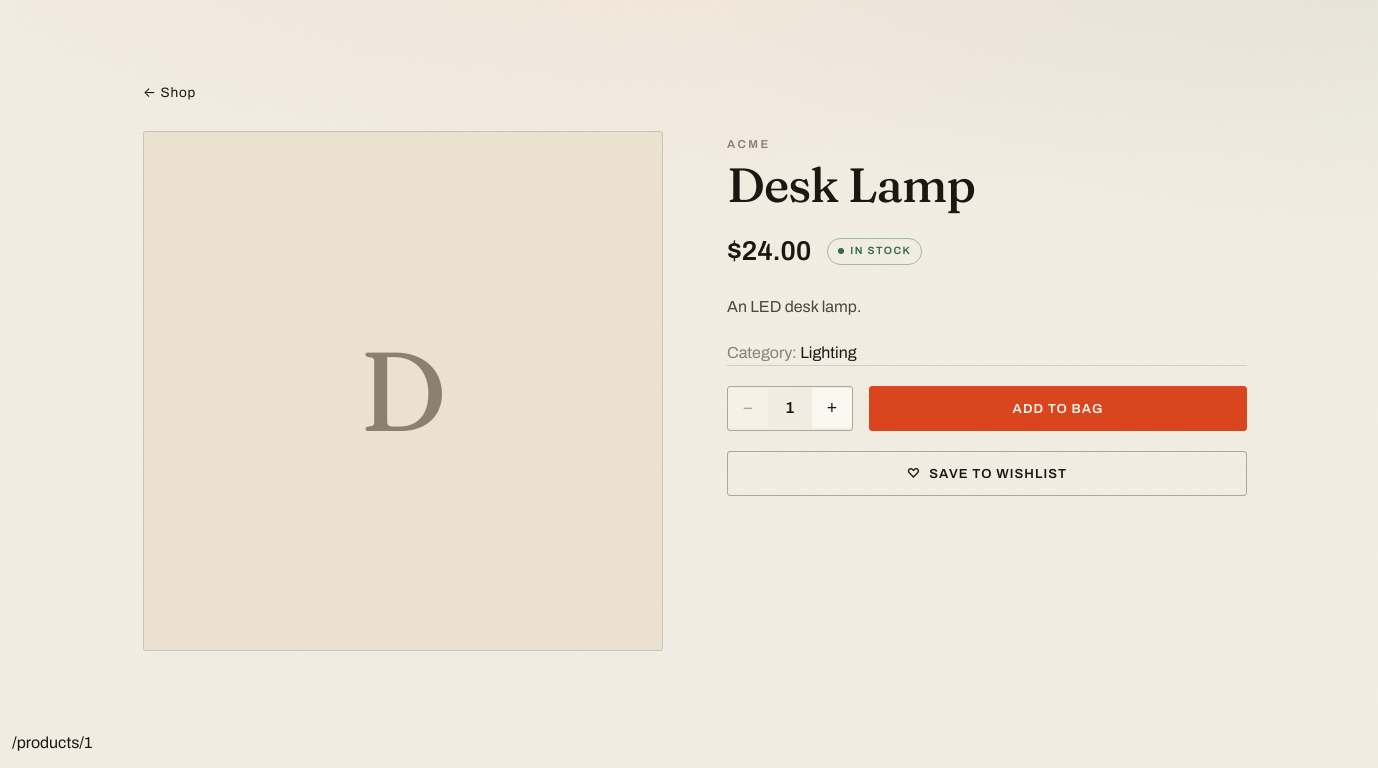
ProductDetailPage › adds the chosen quantity to the bag
Expected: the heading "Desk Lamp" is shown, [727,156,975,214]
Click the button named "Increase quantity": {"x": 832, "y": 408} [812,388,852,428]
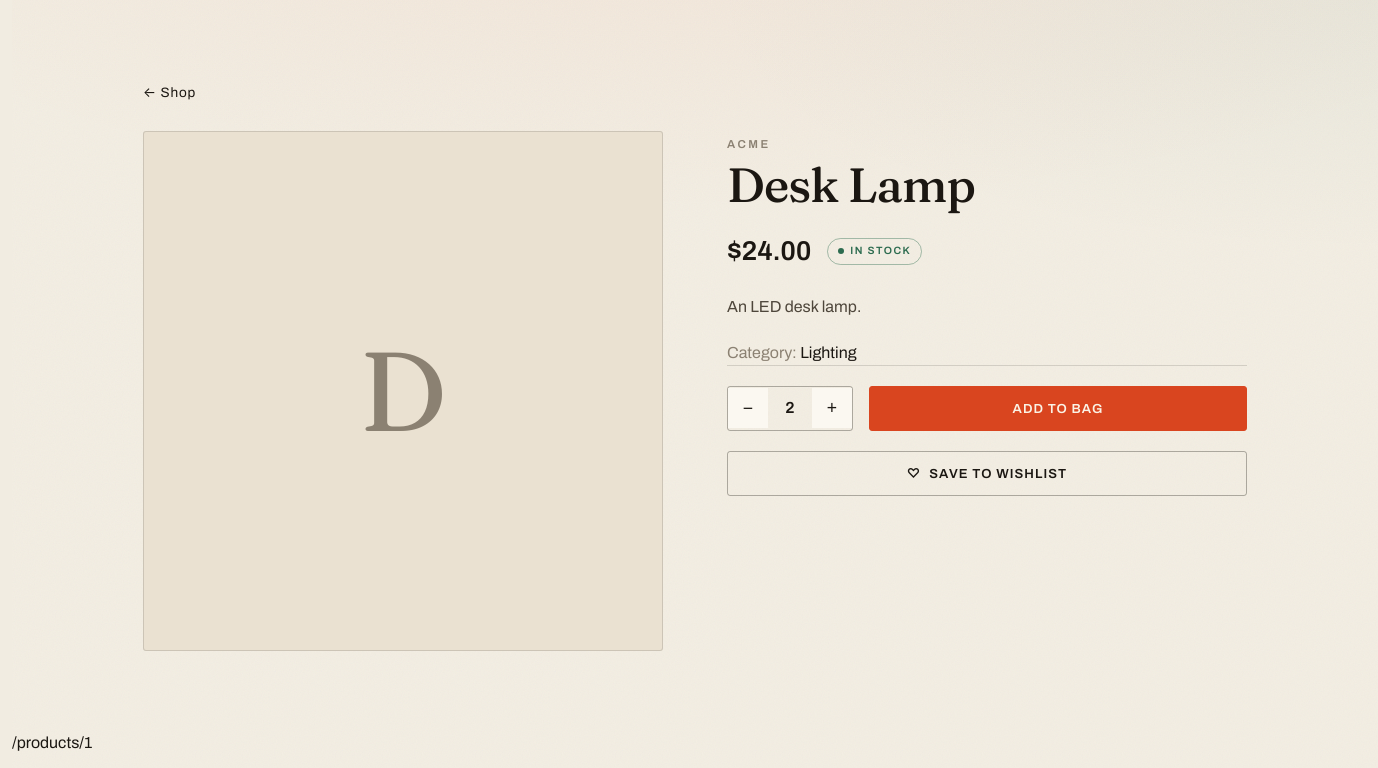
Click the button "Add to bag": {"x": 1058, "y": 408} [869,386,1247,431]
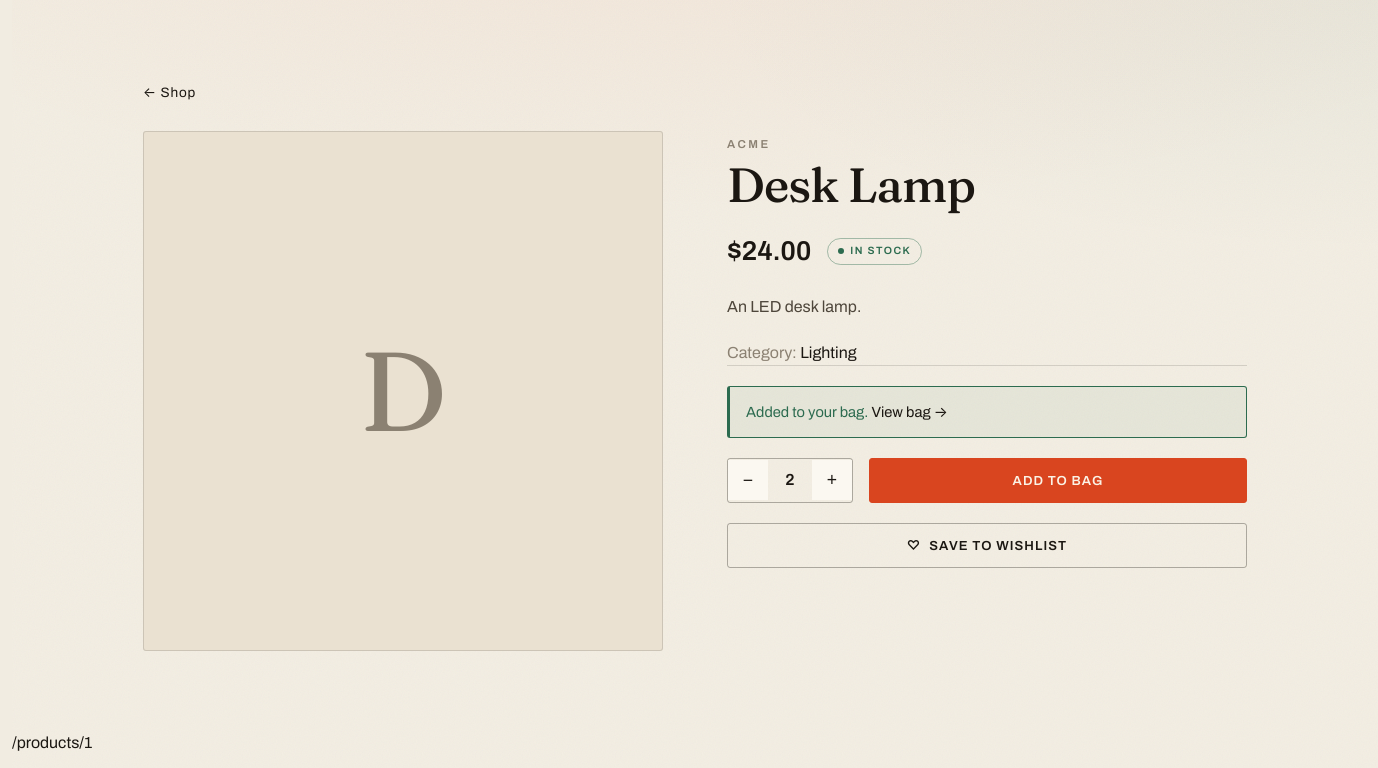
Expected: the text "Added to your bag. View bag →" is shown, [727,386,1247,438]
